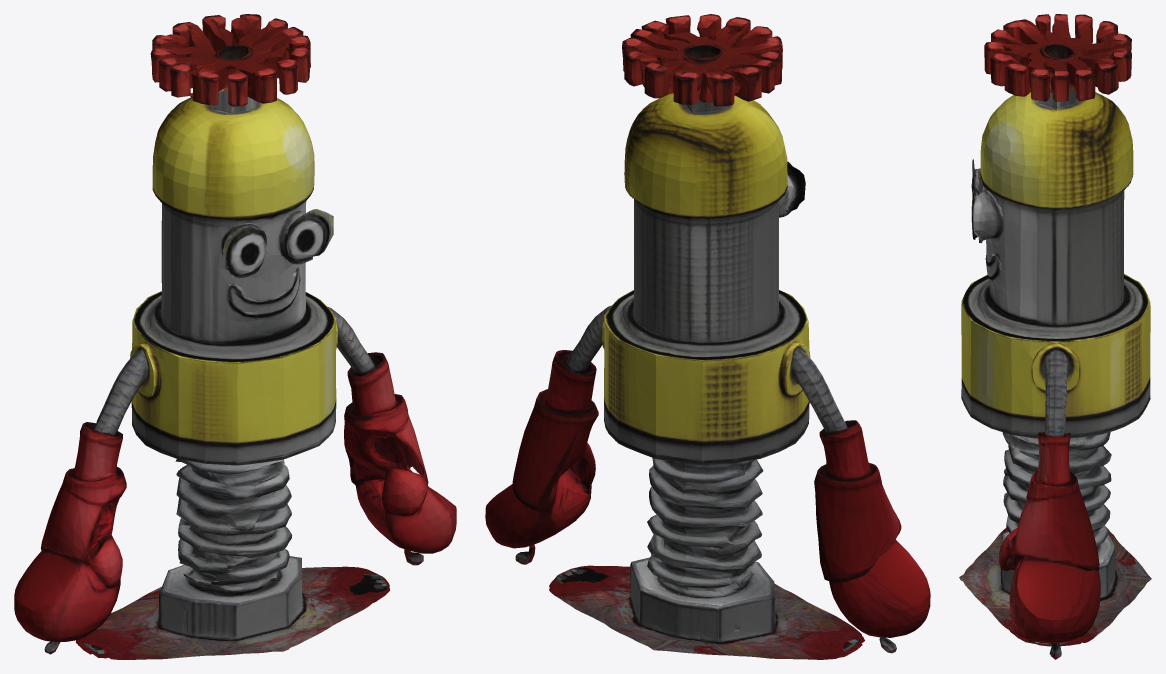
Rendered from c358fb9f-cde8-4ebf-9813-ff1c56732317.glb.
3 renders of one model, left to right at view 1: azimuth 30°, elevation 25°; view 2: azimuth 150°, elevation 25°; view 3: azimuth 270°, elevation 25°, orthographic. The views are drawn at different scales.
Parts seen in each view (by area): view 1: world; view 2: world; view 3: world.
Part boxes in pixels (left/top/right/bottom): world: left=14, top=14, right=456, bottom=659; world: left=485, top=14, right=930, bottom=659; world: left=959, top=14, right=1151, bottom=659.
Bounding box in the file's own units: 0.5579 × 0.7003 × 0.2296.
Materials: 1 (1 with a texture image).
